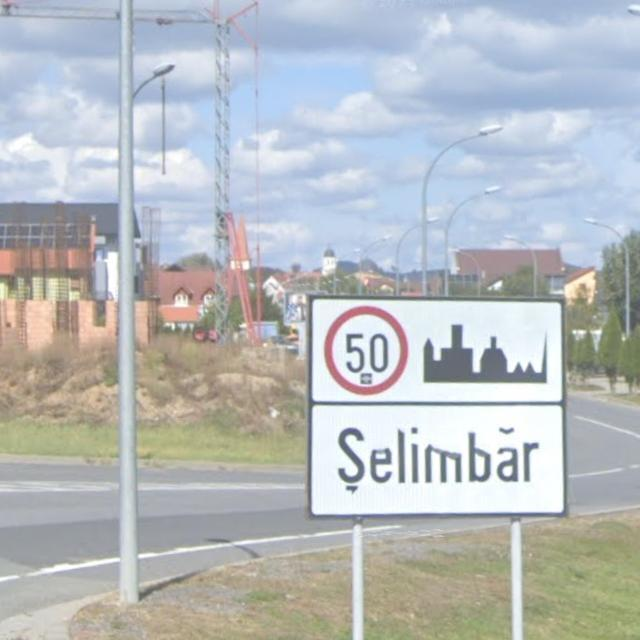forb_speed_over_50: (321, 301, 410, 394)
